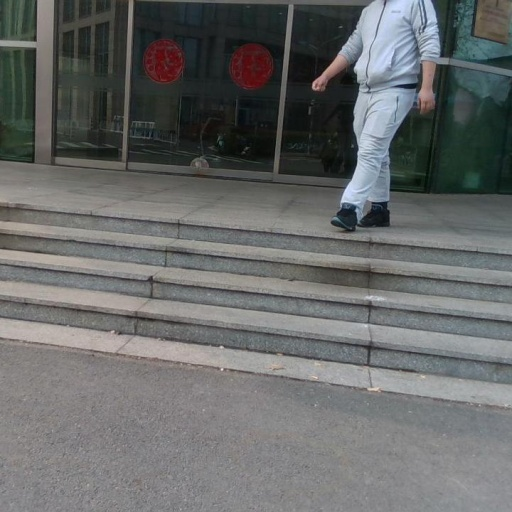Stairs: (0, 205, 512, 384)
